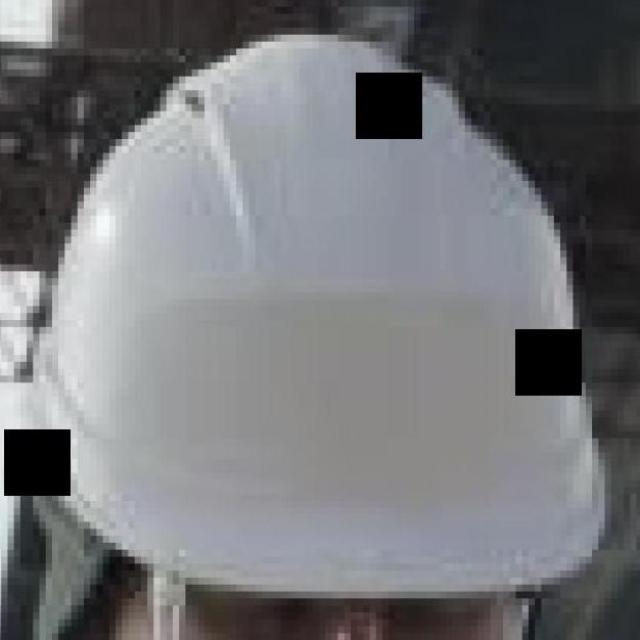white helmet: (23, 34, 619, 620)
